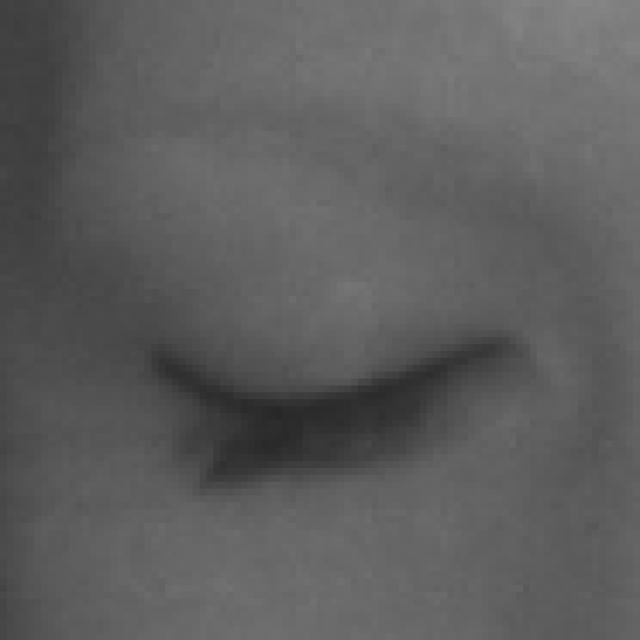Eyeclosed: (141, 247, 514, 582)
